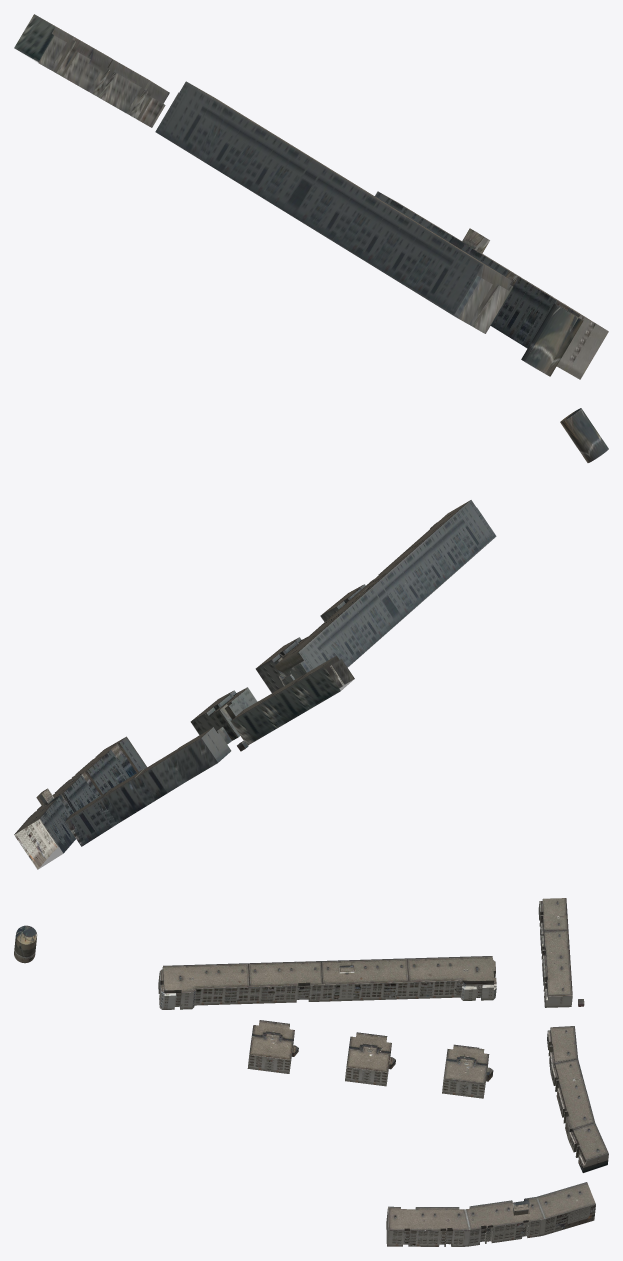
3 views of the same model, one above another, from view 1: azimuth 30°, elevation 25°; view 2: azimuth 150°, elevation 25°; view 3: azimuth 270°, elevation 25° (orthographic). The views are drawn at different scales.
Parts seen in each view (by area): view 1: mesh; view 2: mesh; view 3: mesh.
Part boxes in pixels (left/top/right/bottom): mesh: left=14, top=14, right=608, bottom=379; mesh: left=14, top=408, right=608, bottom=869; mesh: left=14, top=898, right=608, bottom=1246.
Bounding box in the file's own units: 147 × 113 × 266.
Materials: 86 (85 with a texture image).
